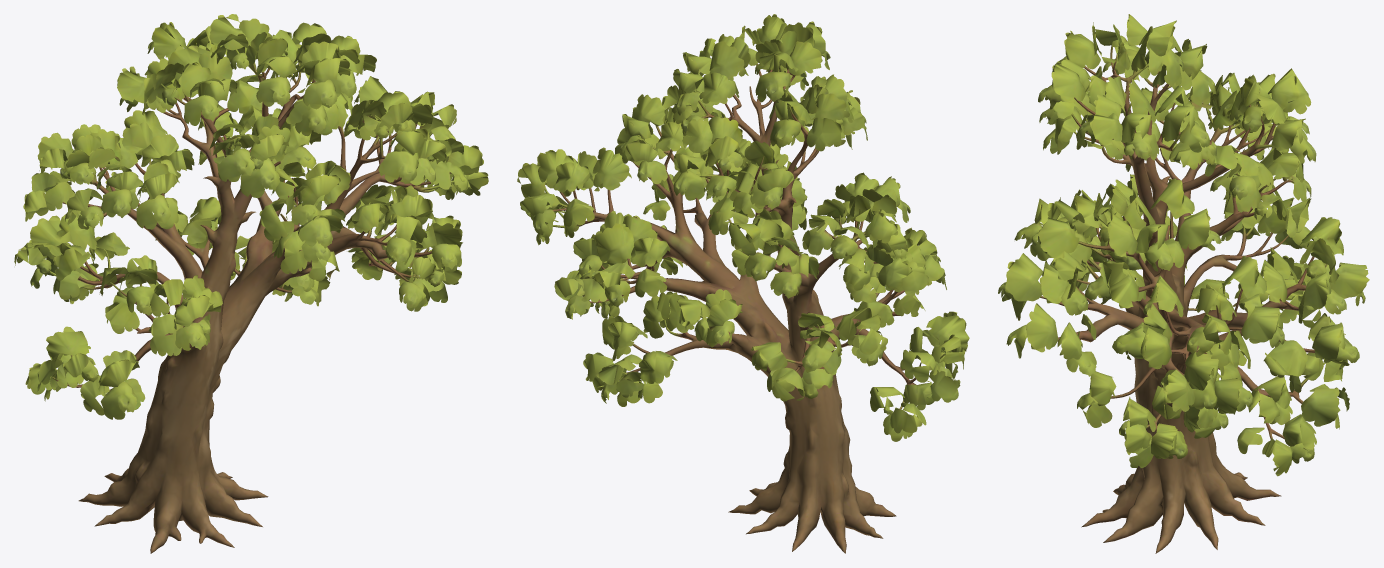
Rendered from stylized tree 3d model.glb.
3 renders of one model, left to right at view 1: azimuth 30°, elevation 25°; view 2: azimuth 150°, elevation 25°; view 3: azimuth 270°, elevation 25°, orthographic. The views are drawn at different scales.
Parts seen in each view (by area): view 1: tripo_node_b8dc9b6a-46a1-4ae8-a1d1-10183ba31a5e; view 2: tripo_node_b8dc9b6a-46a1-4ae8-a1d1-10183ba31a5e; view 3: tripo_node_b8dc9b6a-46a1-4ae8-a1d1-10183ba31a5e.
Boxes of the visible parts, x1=… form: tripo_node_b8dc9b6a-46a1-4ae8-a1d1-10183ba31a5e: x1=14, y1=14, x2=488, y2=553; tripo_node_b8dc9b6a-46a1-4ae8-a1d1-10183ba31a5e: x1=517, y1=14, x2=969, y2=553; tripo_node_b8dc9b6a-46a1-4ae8-a1d1-10183ba31a5e: x1=998, y1=14, x2=1369, y2=553.
Bounding box in the file's own units: 0.9595 × 0.9995 × 0.6431.
1 material, 1 textured.
